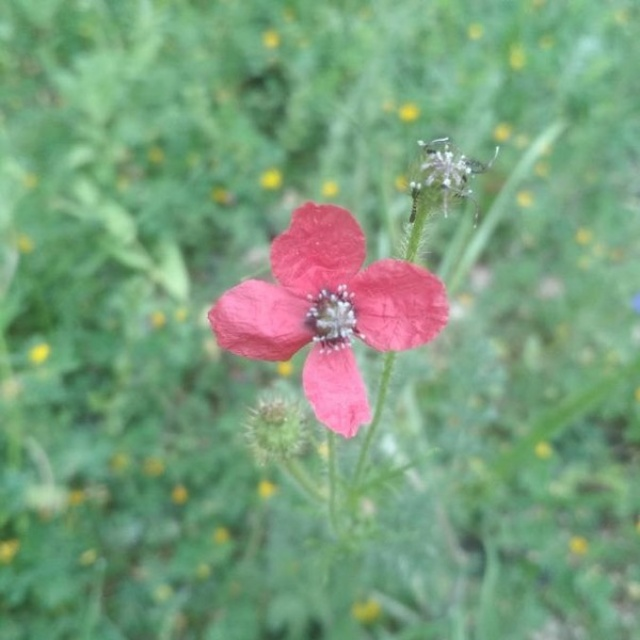obstacle: (215, 149, 447, 457)
